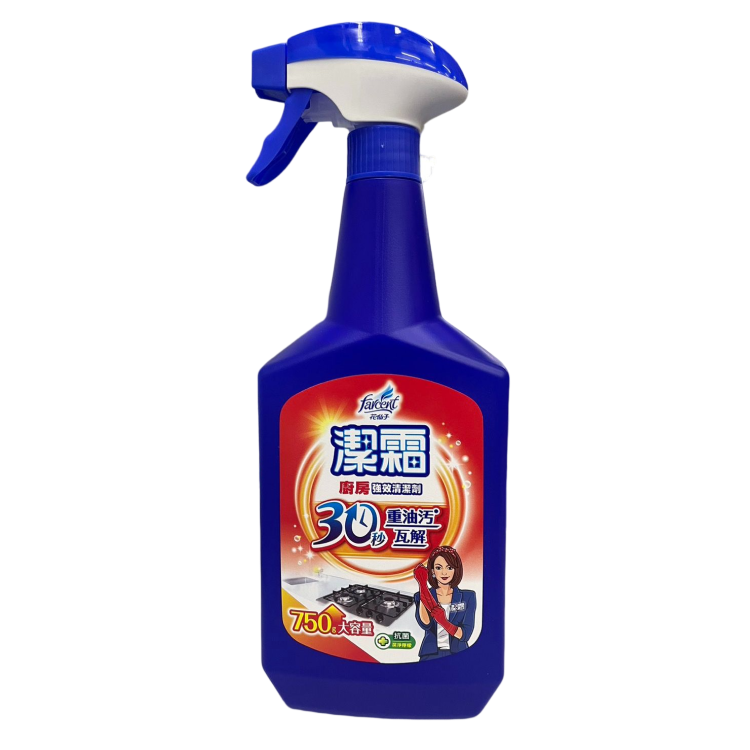cleaner: (242, 18, 517, 733)
